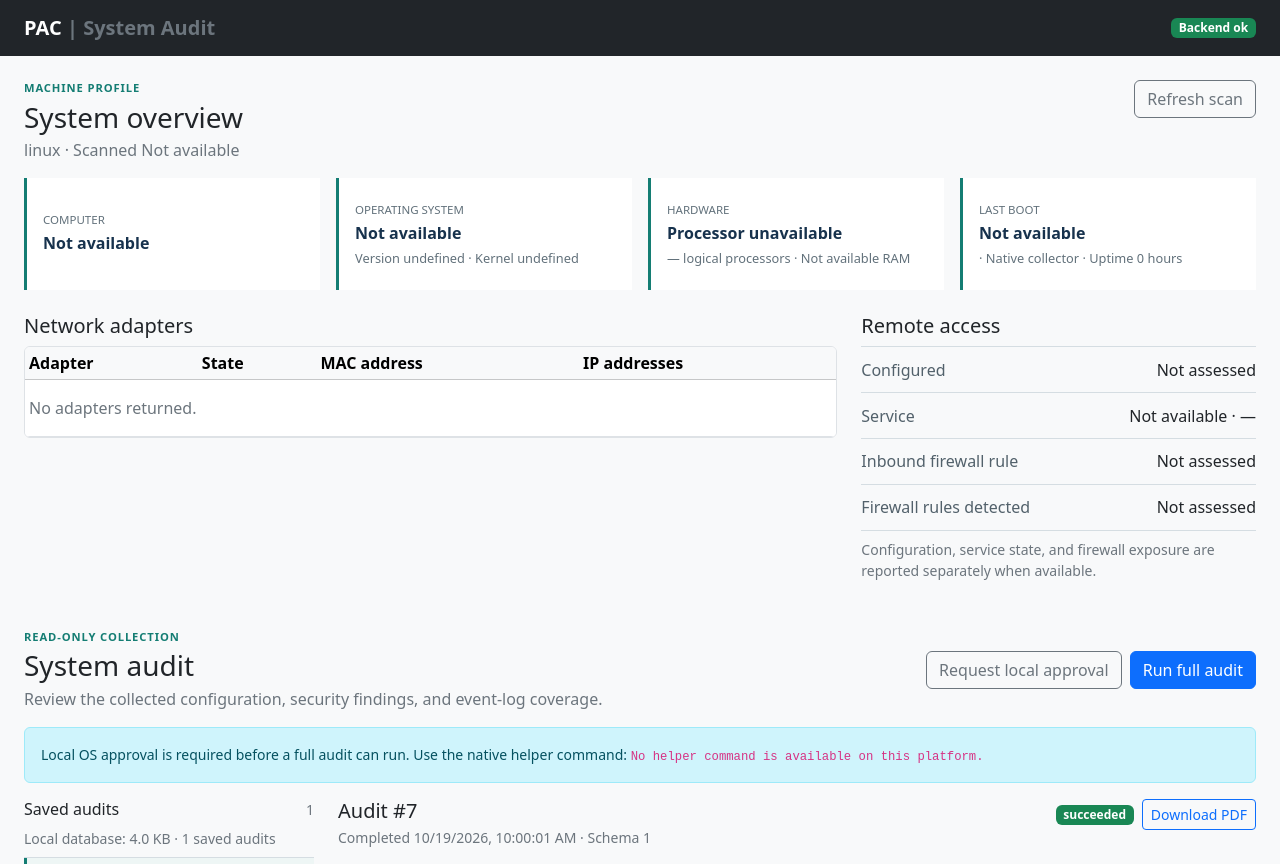
it: audit dashboard › shows a clear error when the audit request is denied
Click the button "Run full audit".
click(1193, 670)  # box [1130,651,1256,689]
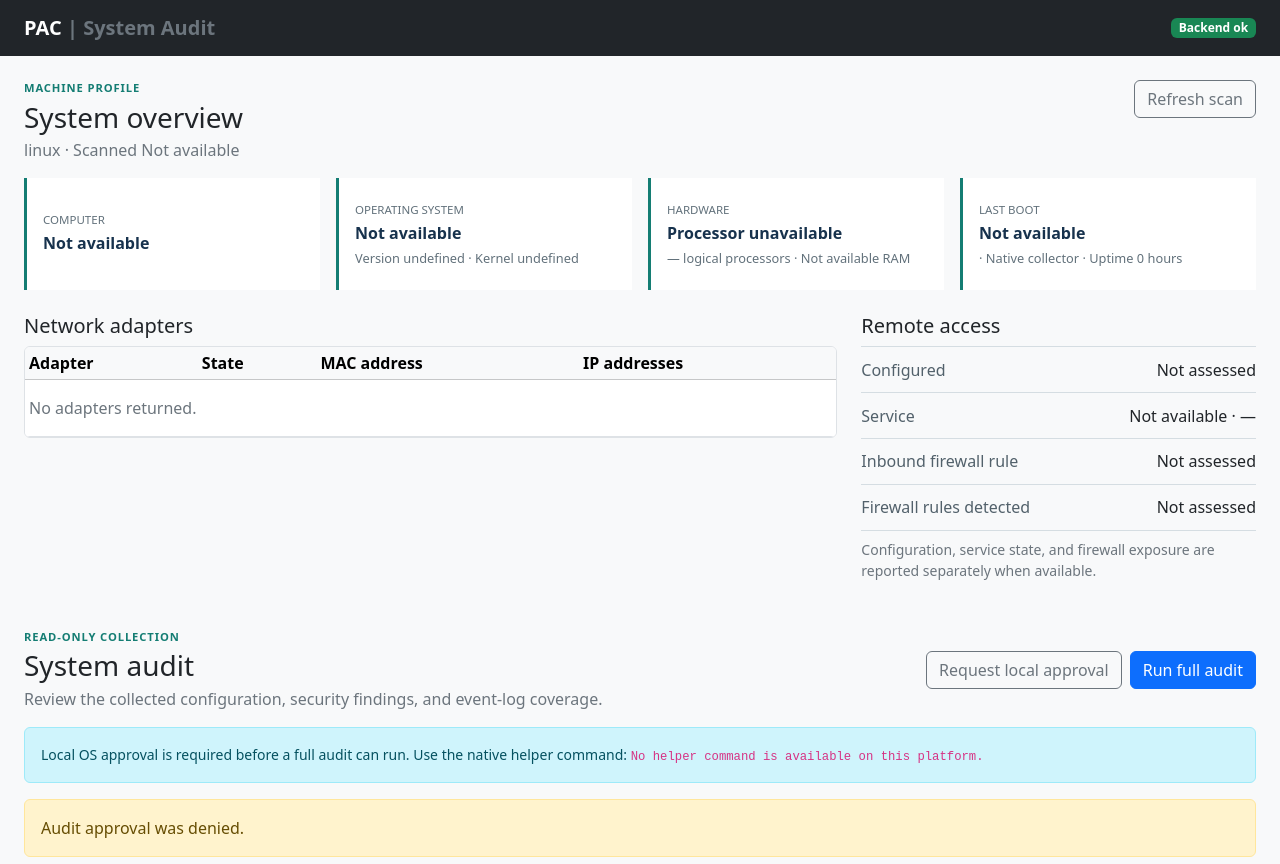
expect the text "Audit approval was denied." is shown: met, box [24,799,1256,857]
